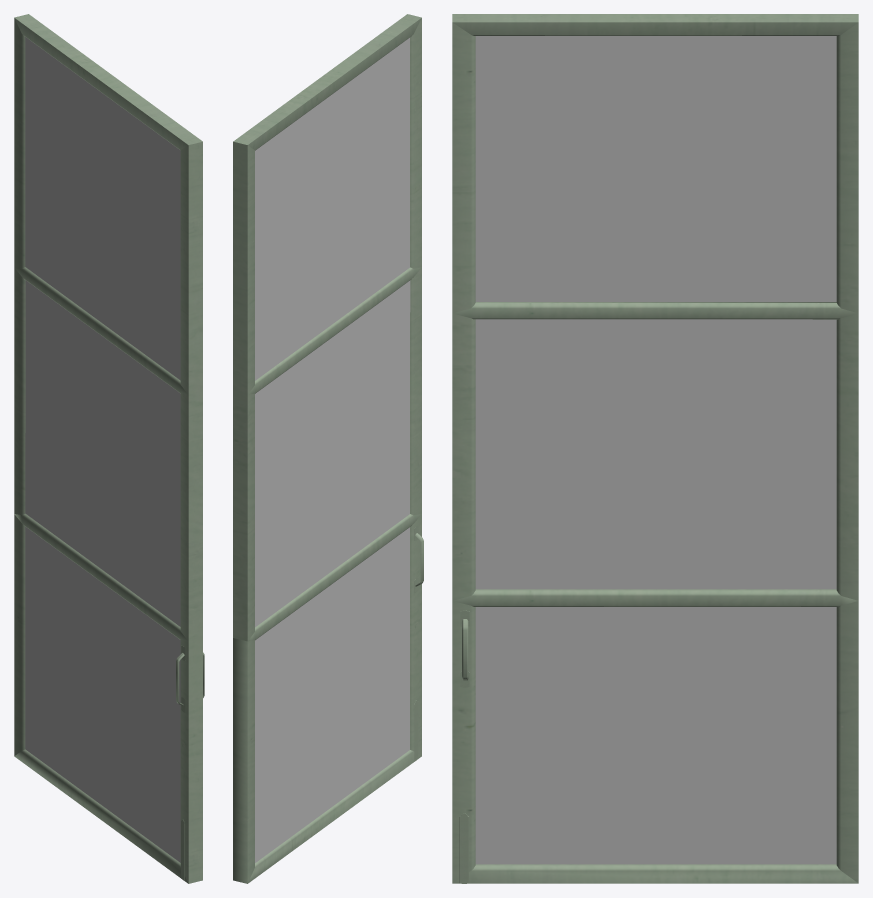
The model's file is SM_WW4_Door_2.fbx.
The picture shows the model from 3 angles, left to right: view 1: azimuth 30°, elevation 25°; view 2: azimuth 150°, elevation 25°; view 3: azimuth 270°, elevation 25°; orthographic projection. The views are drawn at different scales.
Parts seen in each view (by area): view 1: SM_WW4_Door_2; view 2: SM_WW4_Door_2; view 3: SM_WW4_Door_2.
Boxes of the visible parts, bbox=[...] form: SM_WW4_Door_2: bbox=[14, 14, 204, 883]; SM_WW4_Door_2: bbox=[233, 14, 423, 883]; SM_WW4_Door_2: bbox=[452, 14, 858, 883].
Size of the model in its own units: 6.15 by 67.56 by 158.
Materials: 2 (1 with a texture image).
